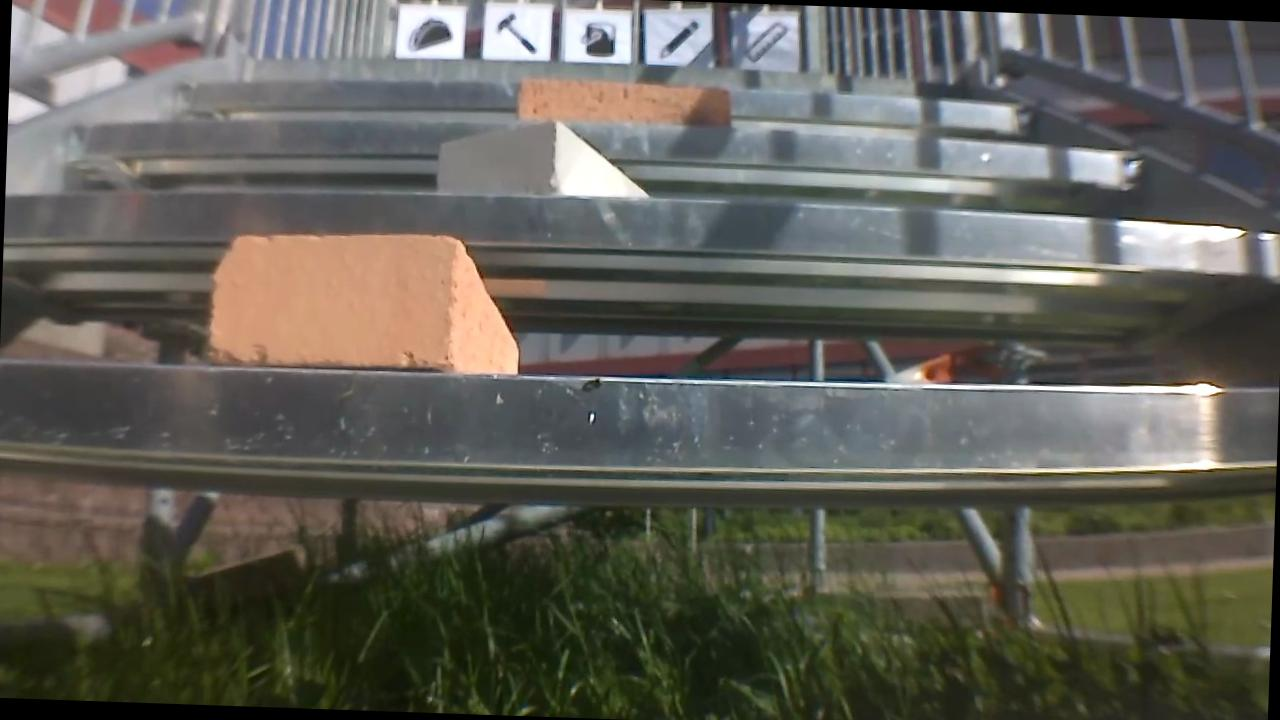brick: (182, 220, 537, 380), (450, 122, 650, 203), (514, 77, 737, 128)
bucket: (575, 20, 620, 61)
edge: (0, 337, 1279, 504), (3, 180, 1279, 294), (66, 95, 1169, 202), (173, 68, 1032, 123), (224, 57, 968, 91)
hammer: (492, 7, 535, 50)
pencil: (648, 17, 699, 55)
ruler: (746, 15, 791, 59)
steps: (6, 34, 1280, 536)
taco: (403, 15, 450, 50)
